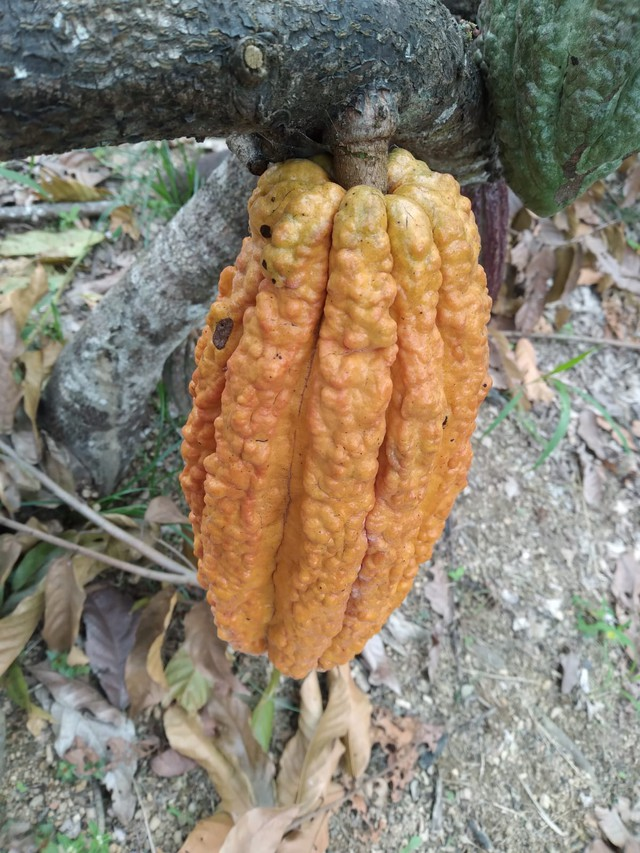Health: (169, 139, 502, 683)
